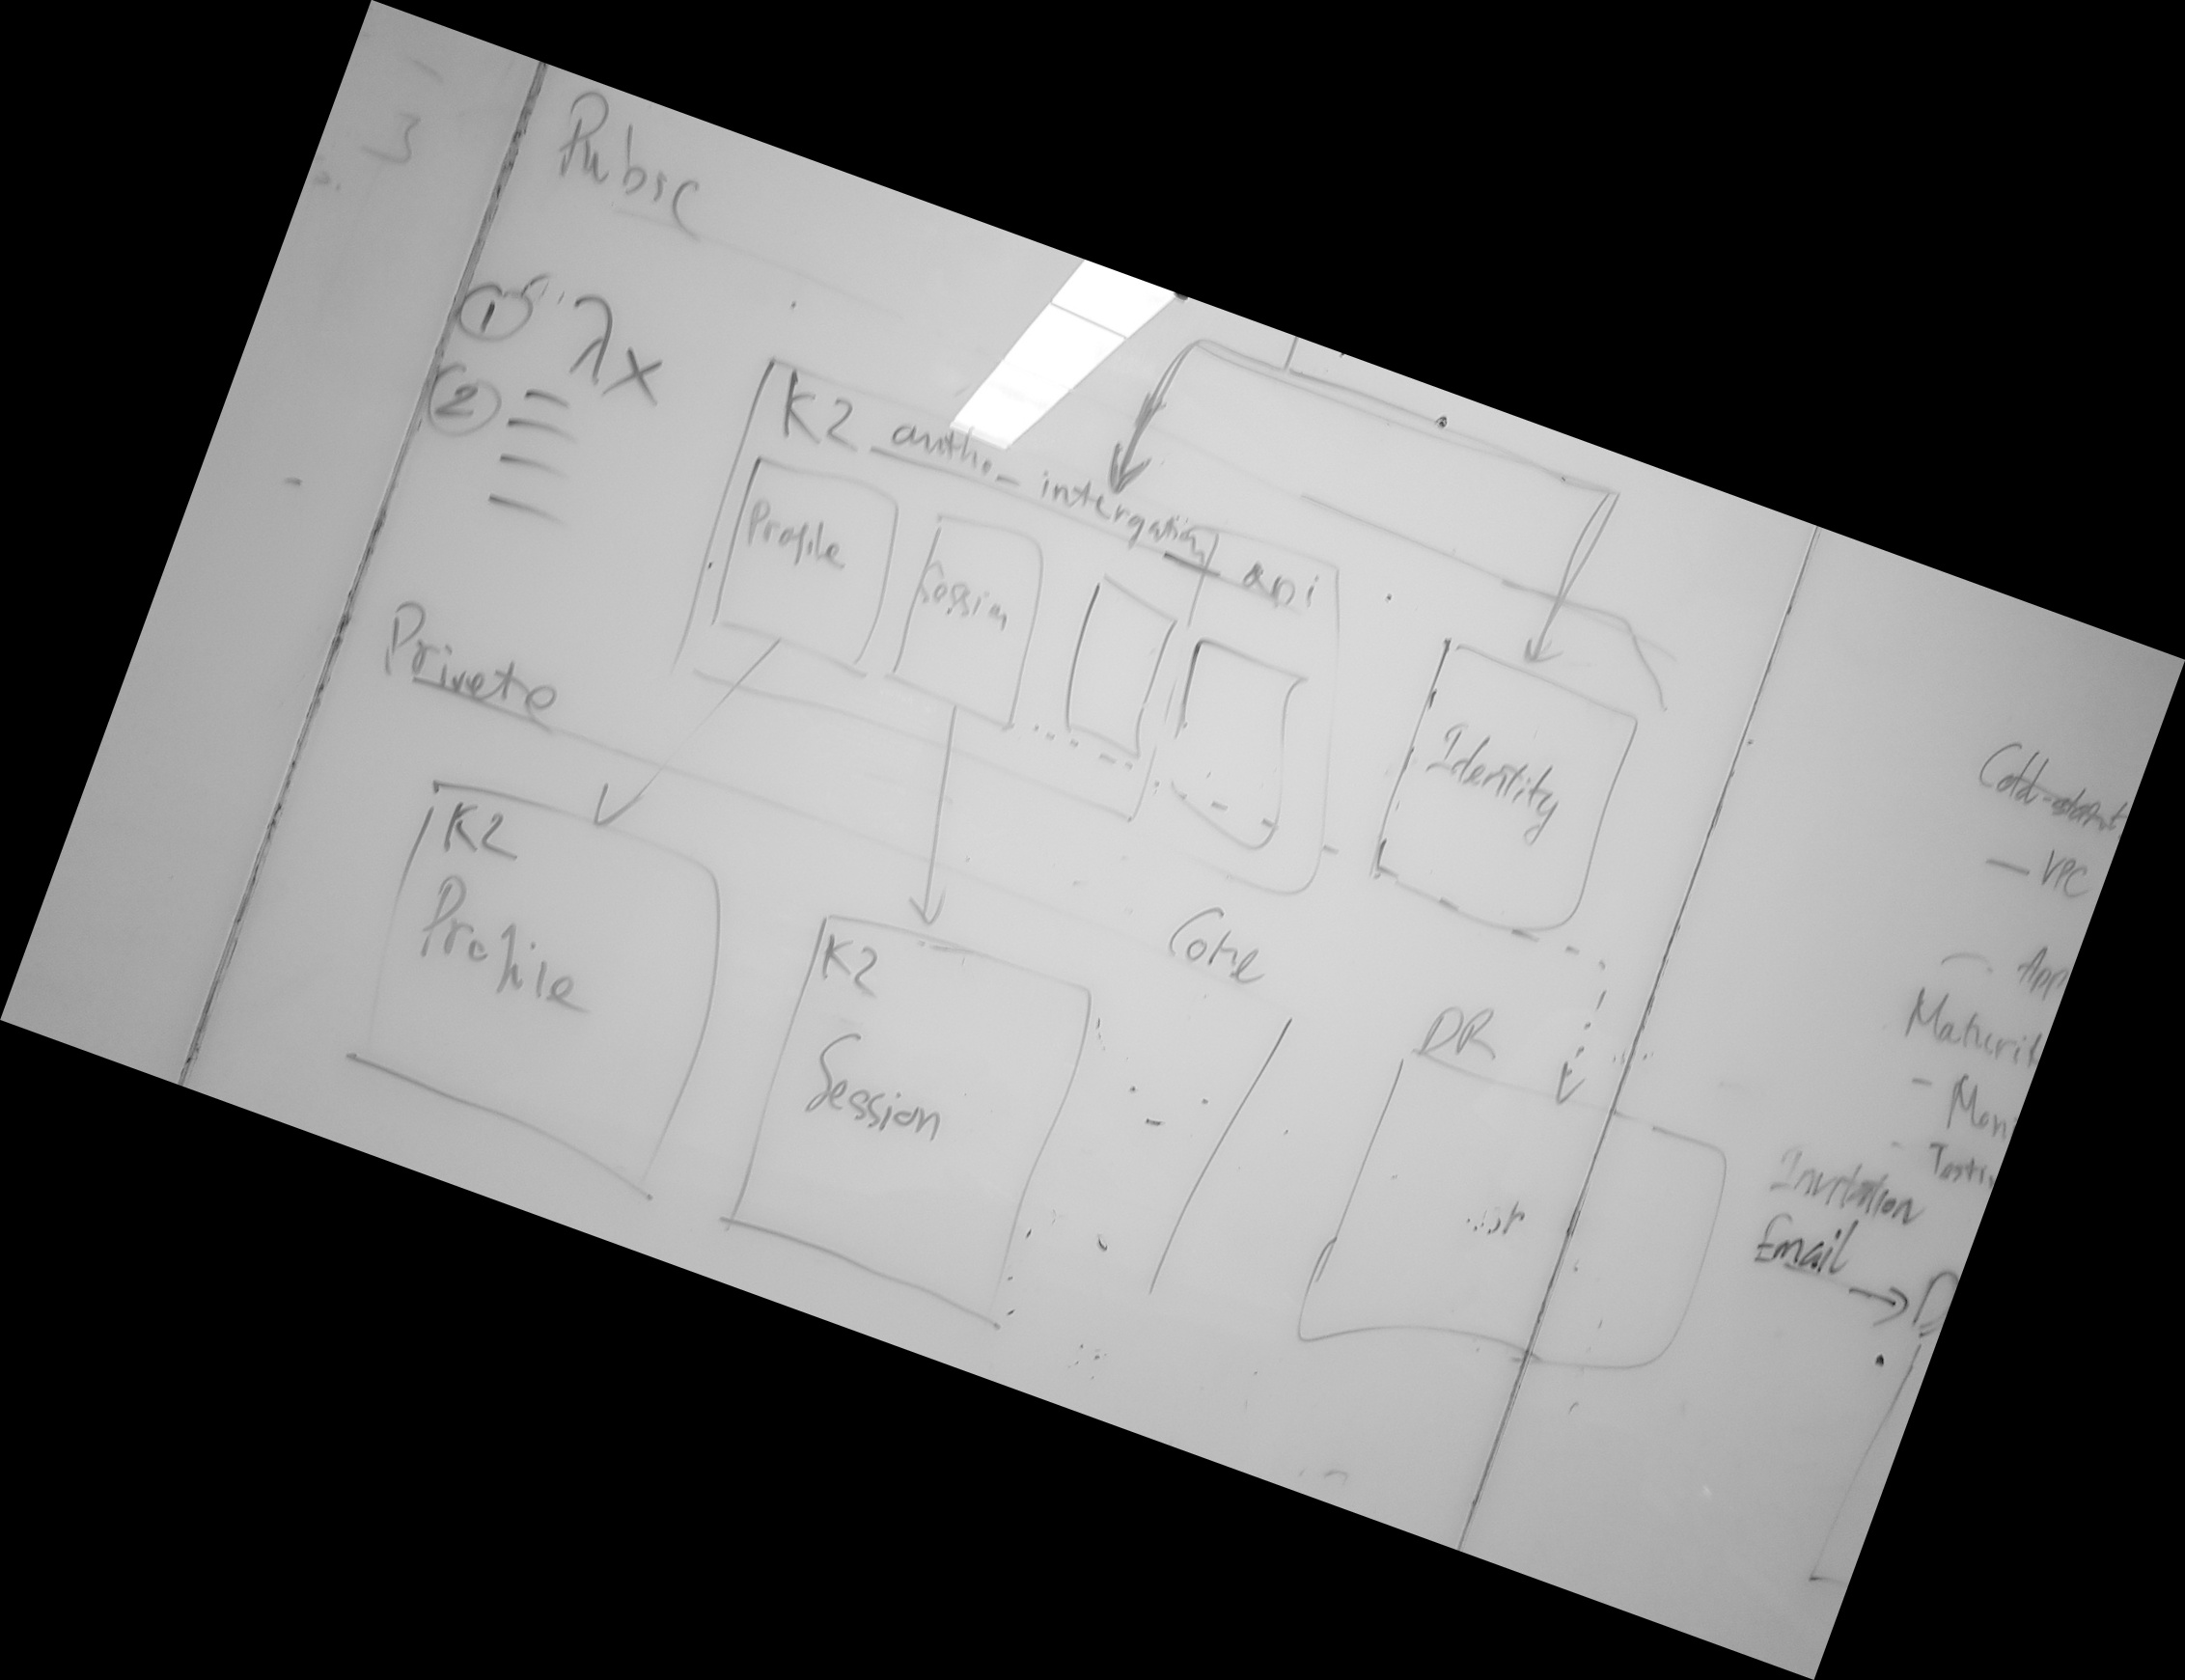arrow: (574, 754, 672, 840), (1532, 1011, 1610, 1114), (1096, 399, 1163, 499), (891, 858, 960, 941), (1844, 1258, 1913, 1338), (1509, 600, 1569, 678)
